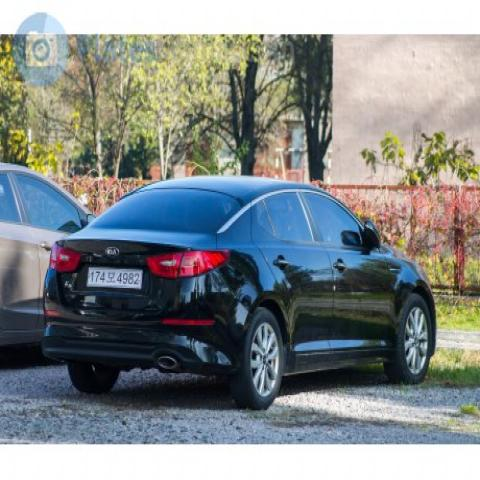LP: (79, 260, 155, 300)
